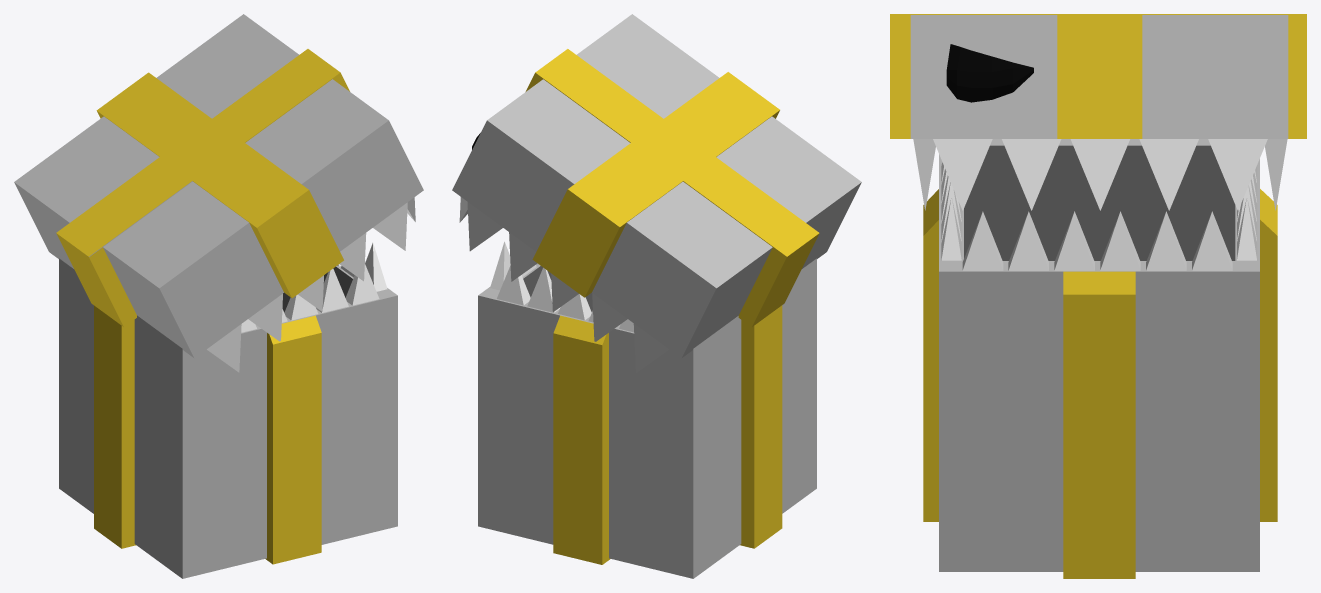
File: RegaloAmarilloShiny.fbx
The picture shows the model from 3 angles, left to right: view 1: azimuth 30°, elevation 25°; view 2: azimuth 150°, elevation 25°; view 3: azimuth 270°, elevation 25°; orthographic projection. The views are drawn at different scales.
Parts seen in each view (by area): view 1: Cube.012, Cube.011; view 2: Cube.012, Cube.011; view 3: Cube.011, Cube.012.
Part boxes in pixels (box(x1,y1,x2,y2)): Cube.012: box(14, 14, 423, 372); Cube.011: box(59, 243, 397, 578); Cube.012: box(452, 14, 861, 372); Cube.011: box(478, 241, 816, 578); Cube.011: box(923, 139, 1277, 578); Cube.012: box(890, 14, 1306, 210).
Bounding box in the file's own units: 10.46 × 14.62 × 10.
